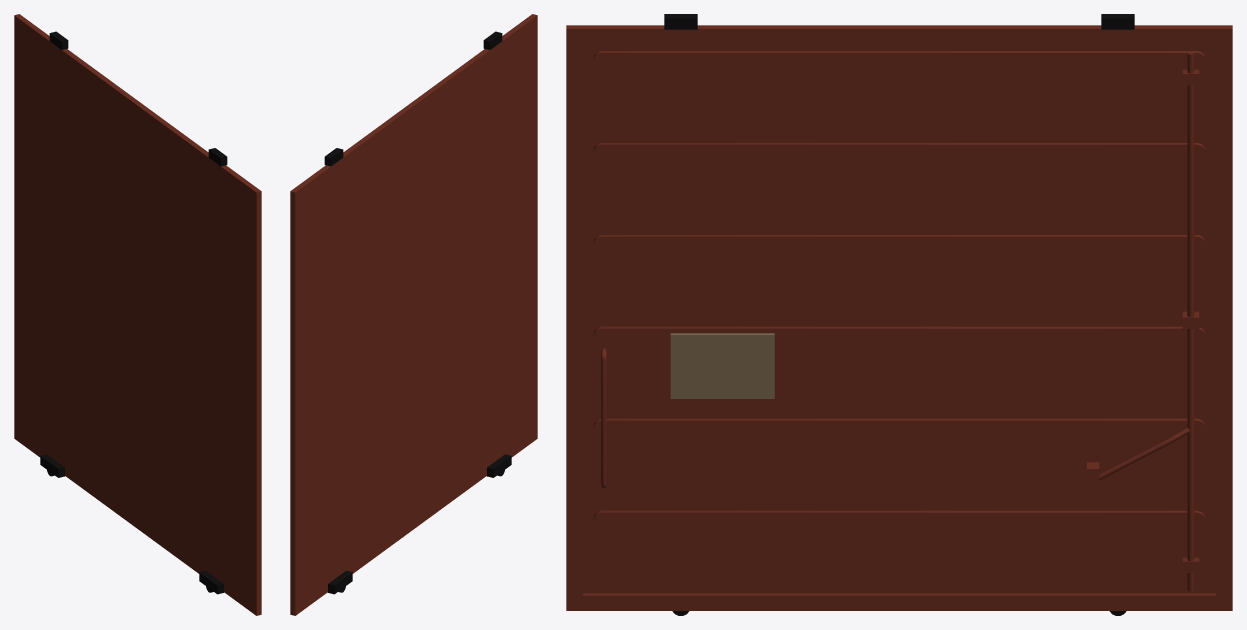
The model's file is door_rwkz.glb.
3 views of the same model, side by side, from view 1: azimuth 30°, elevation 25°; view 2: azimuth 150°, elevation 25°; view 3: azimuth 270°, elevation 25° (orthographic). The views are drawn at different scales.
Parts seen in each view (by area): view 1: Door, Dark; view 2: Door, Dark; view 3: Door, TackBoard, Dark.
Part boxes in pixels (x1,y1,x2,y2): Door: (14, 14, 261, 615); Dark: (40, 31, 227, 594); Door: (290, 14, 537, 615); Dark: (324, 31, 511, 594); Door: (566, 25, 1232, 610); TackBoard: (670, 333, 774, 398); Dark: (664, 14, 1134, 615).
Size of the model in its own units: 0.16 by 3.18 by 3.2.
